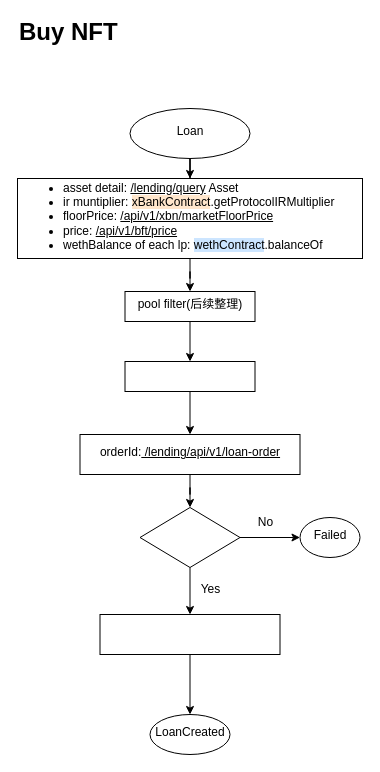
This 380x772 diagram has some shape labels left out. Here are the shapes that lost their labels. From the top down, the centre of each, then its label:
At point (189, 376): "select pool".
At point (189, 537): "orderId?".
At point (189, 634): "xBankContract .transferFrom".
